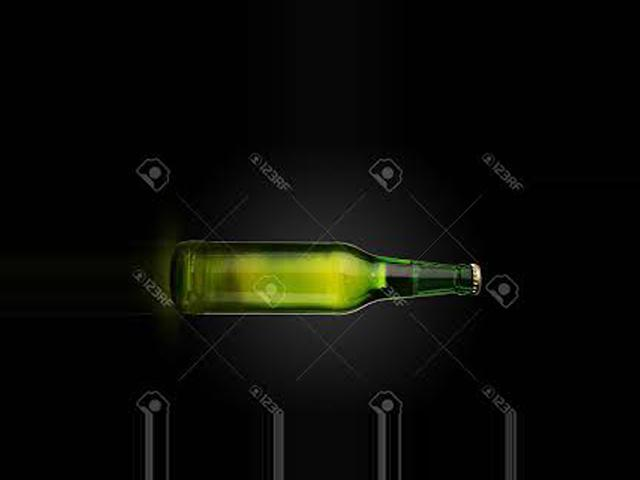beer: (172, 243, 481, 316)
